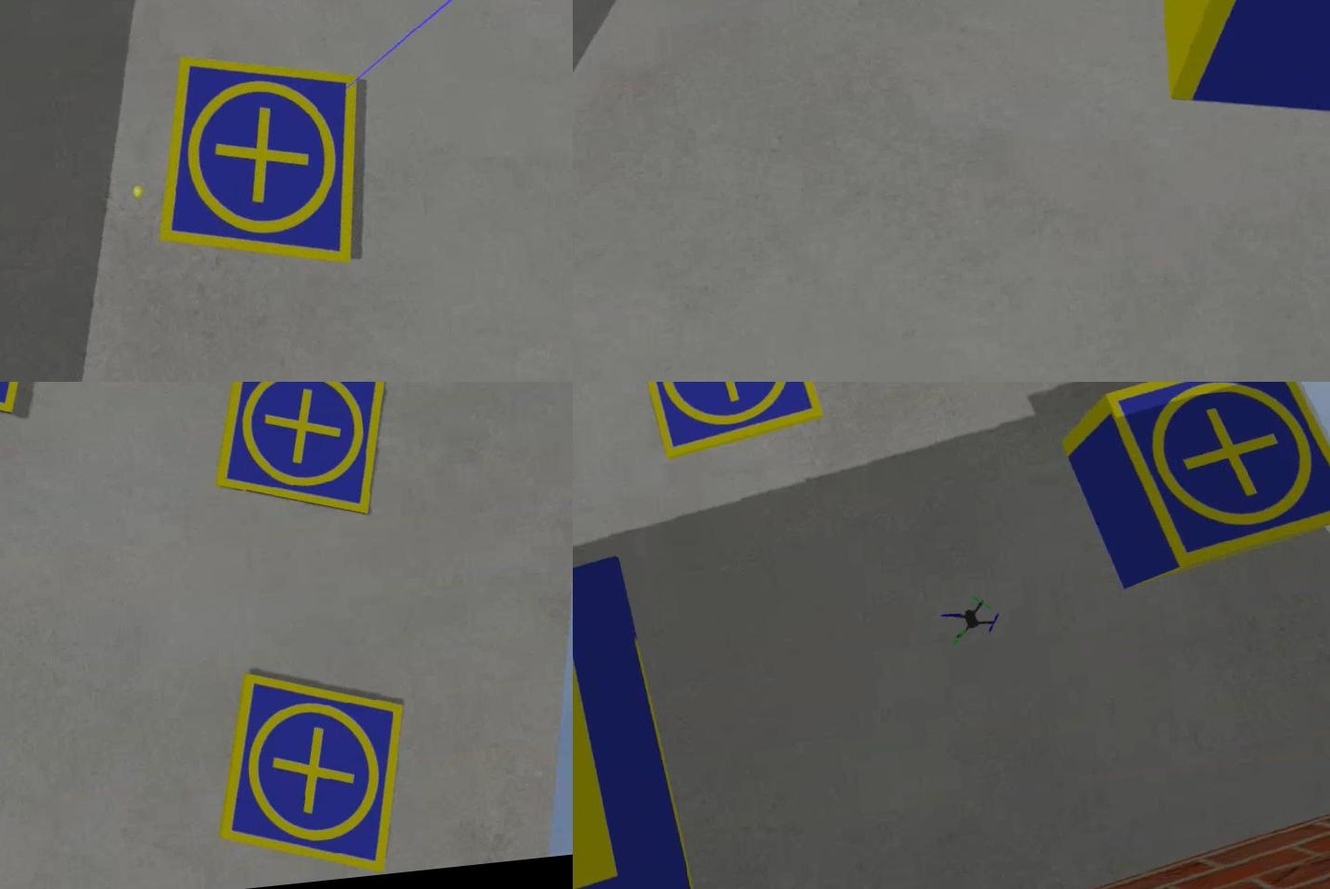small_base: (138, 40, 381, 286), (206, 656, 417, 889), (1097, 382, 1328, 580), (196, 382, 402, 530), (624, 382, 826, 468)
